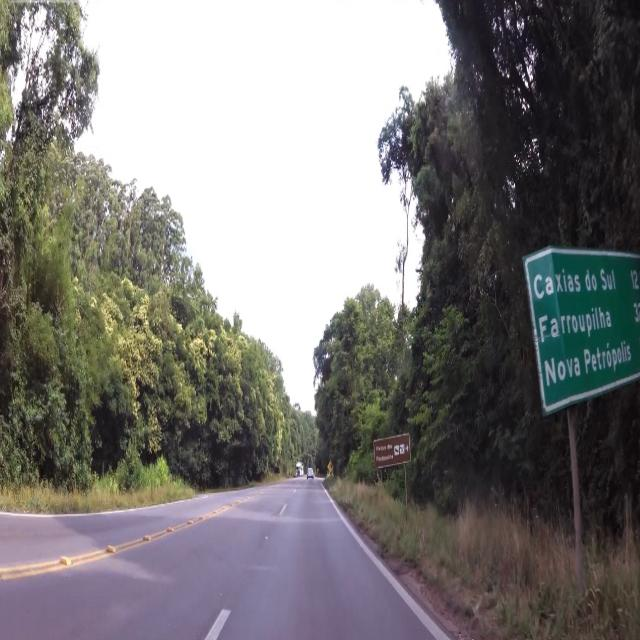I-4: (524, 241, 640, 396)
TUR-4: (372, 437, 419, 465)
